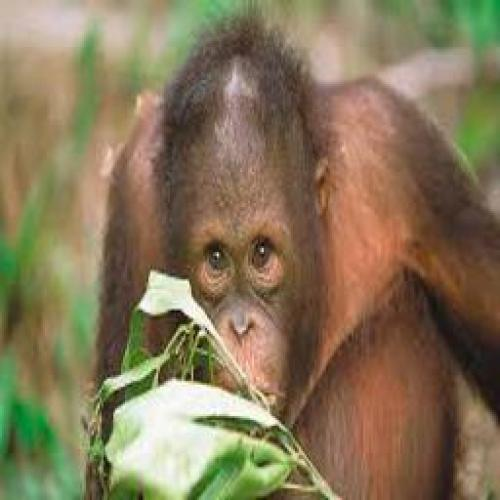orangutan-endangered: (91, 10, 500, 499)
